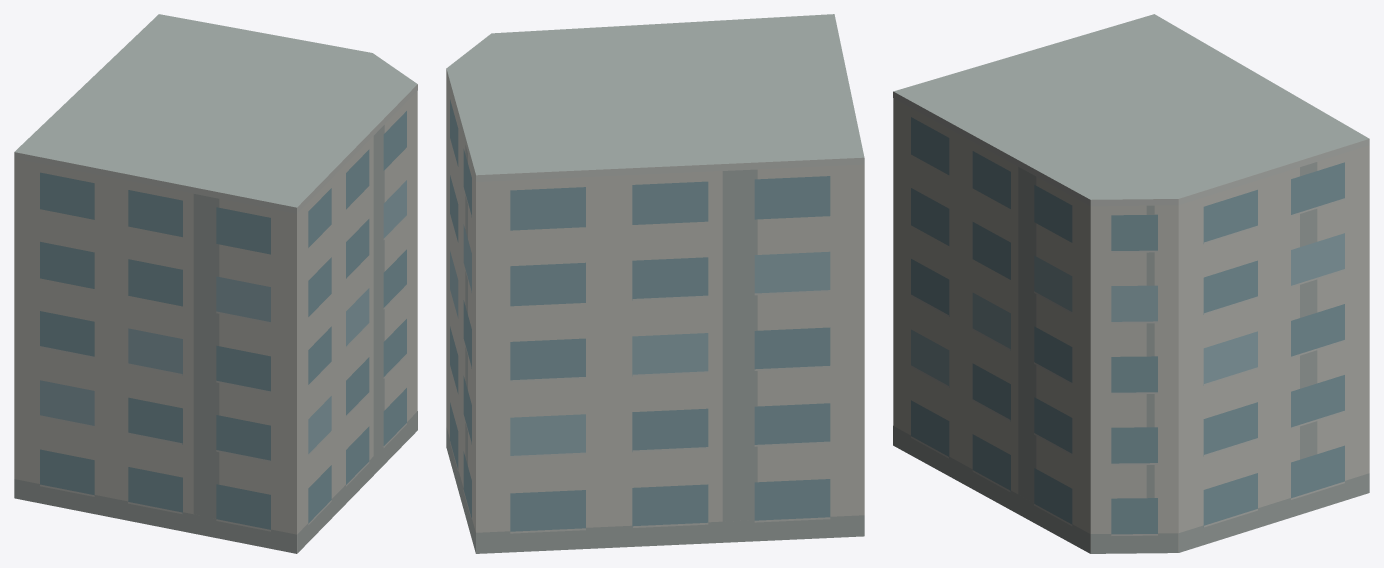
Rendered from survey-upis-32851155.glb.
The picture shows the model from 3 angles, left to right: view 1: azimuth 30°, elevation 25°; view 2: azimuth 150°, elevation 25°; view 3: azimuth 270°, elevation 25°; orthographic projection. The views are drawn at different scales.
Visible parts, largest first — view 1: survey-upis-32851155.tmp; view 2: survey-upis-32851155.tmp; view 3: survey-upis-32851155.tmp.
Boxes of the visible parts, x1=… form: survey-upis-32851155.tmp: x1=14, y1=14, x2=417, y2=553; survey-upis-32851155.tmp: x1=446, y1=14, x2=864, y2=553; survey-upis-32851155.tmp: x1=893, y1=14, x2=1369, y2=553.
Bounding box in the file's own units: 14.86 × 13.2 × 16.11.
